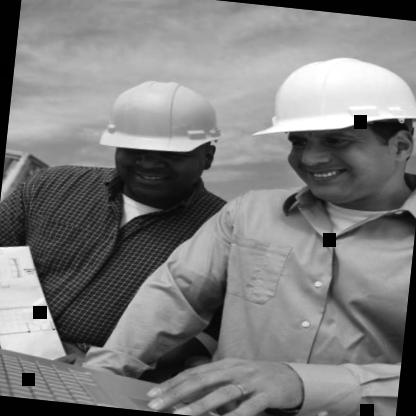helmet: (244, 38, 416, 221), (78, 58, 248, 213)
